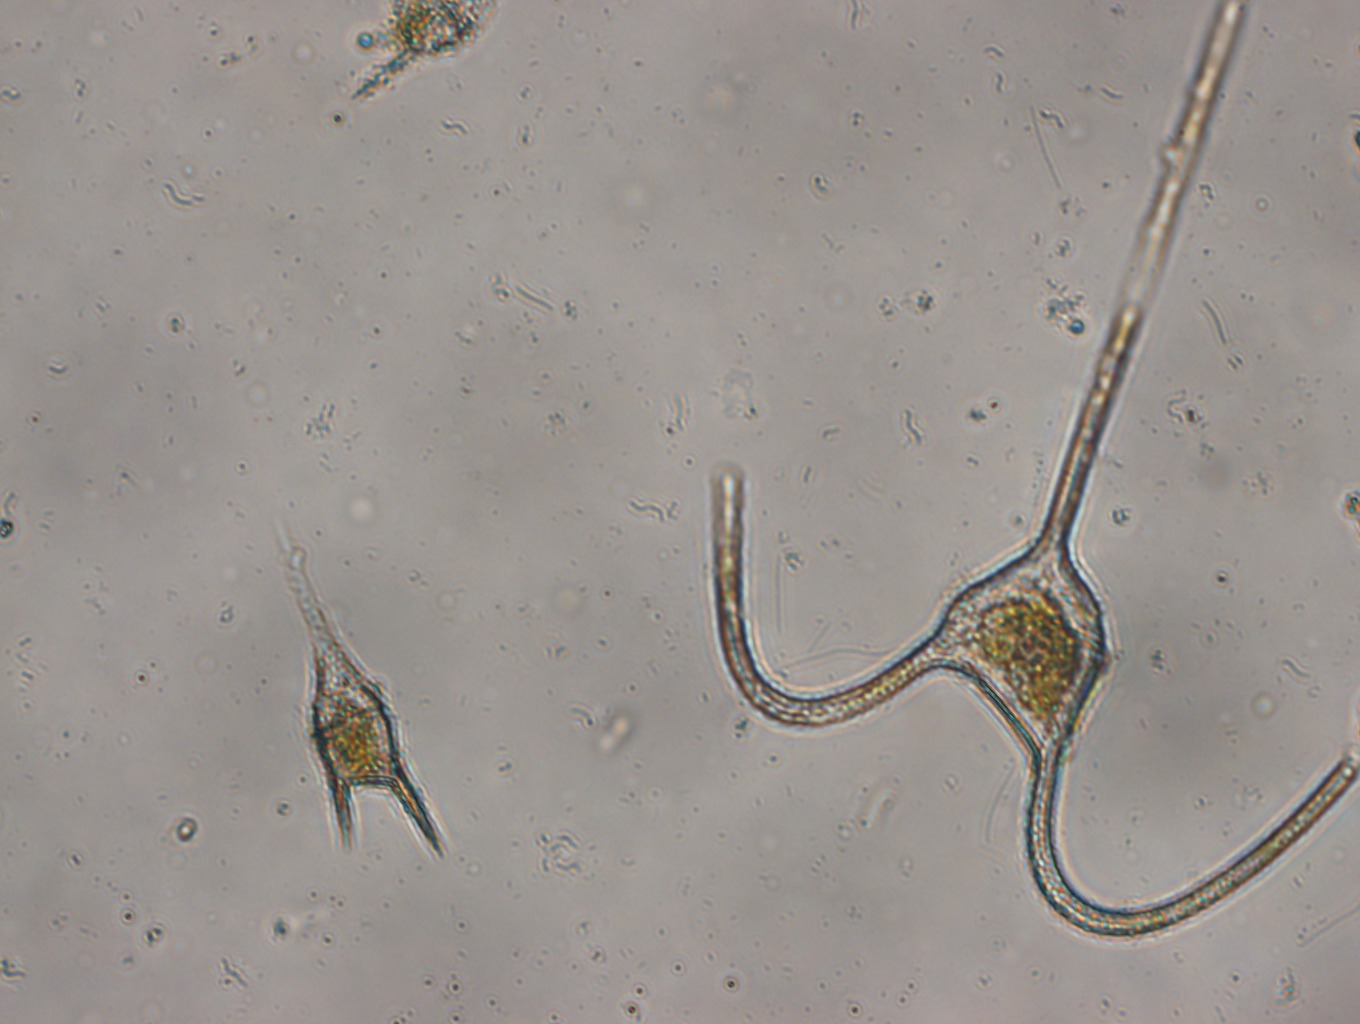ceratium furca: (272, 520, 455, 867)
ceratium trichoceros: (705, 9, 1360, 954)
